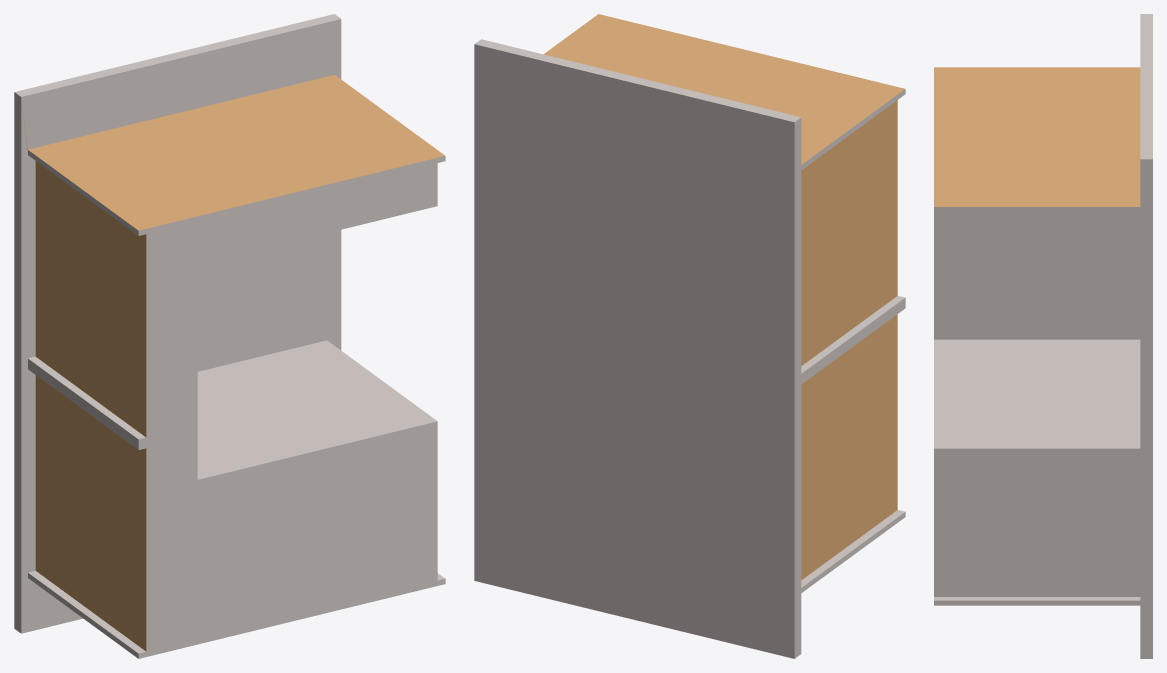
Rendered from Table_new.dae.
The picture shows the model from 3 angles, left to right: view 1: azimuth 30°, elevation 25°; view 2: azimuth 150°, elevation 25°; view 3: azimuth 270°, elevation 25°; orthographic projection. The views are drawn at different scales.
Parts seen in each view (by area): view 1: node0; view 2: node0; view 3: node0.
Boxes of the visible parts, x1=… form: node0: x1=14, y1=14, x2=445, y2=658; node0: x1=474, y1=14, x2=905, y2=658; node0: x1=934, y1=14, x2=1152, y2=658.
Bounding box in the file's own units: 1.25 × 0.792 × 2.
